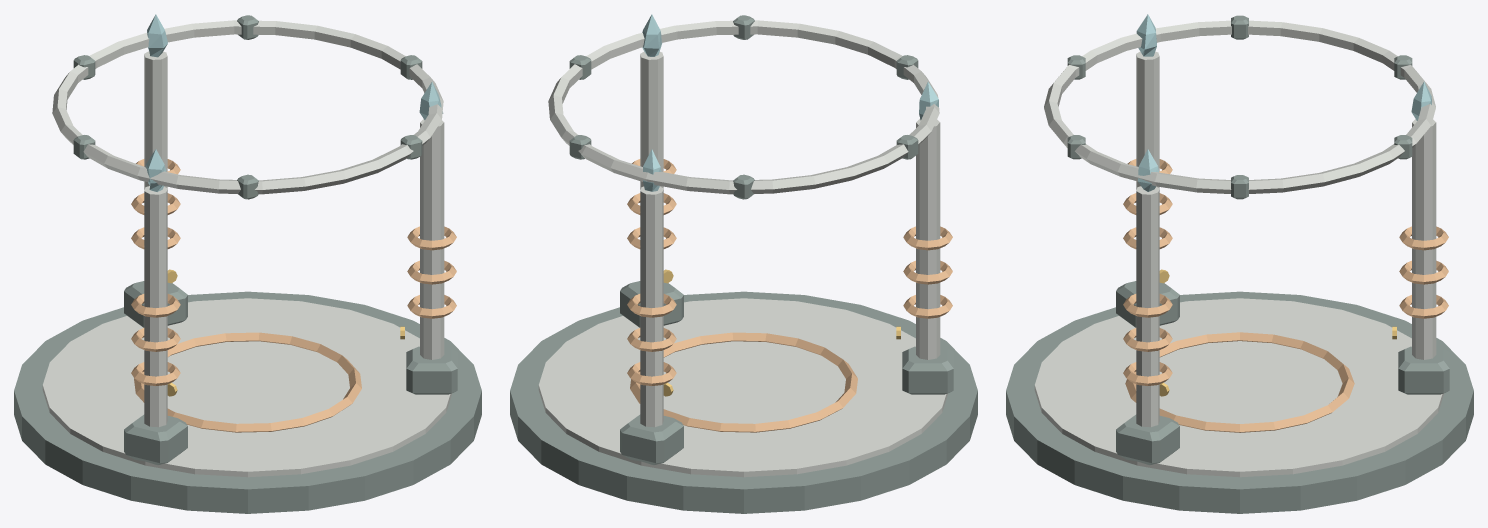
Rendered from lab_rift_emitter.glb.
3 views of the same model, side by side, from view 1: azimuth 30°, elevation 25°; view 2: azimuth 150°, elevation 25°; view 3: azimuth 270°, elevation 25° (orthographic).
Visible parts, largest first — view 1: lab_rift_emitter, Ring, Pylon_1, Pylon_2, Pylon_0; view 2: lab_rift_emitter, Ring, Pylon_0, Pylon_1, Pylon_2; view 3: lab_rift_emitter, Ring, Pylon_2, Pylon_0, Pylon_1.
Boxes of the visible parts, left/top/right/bottom form: lab_rift_emitter: left=14, top=291, right=481, bottom=513; Ring: left=52, top=15, right=443, bottom=199; Pylon_1: left=124, top=149, right=187, bottom=464; Pylon_2: left=400, top=81, right=457, bottom=394; Pylon_0: left=124, top=14, right=187, bottom=327; lab_rift_emitter: left=510, top=291, right=977, bottom=513; Ring: left=548, top=15, right=939, bottom=199; Pylon_0: left=620, top=149, right=683, bottom=464; Pylon_1: left=896, top=81, right=953, bottom=394; Pylon_2: left=620, top=14, right=683, bottom=327; lab_rift_emitter: left=1006, top=291, right=1473, bottom=513; Ring: left=1044, top=15, right=1435, bottom=199; Pylon_2: left=1116, top=149, right=1179, bottom=464; Pylon_0: left=1392, top=81, right=1449, bottom=394; Pylon_1: left=1116, top=14, right=1179, bottom=327.
Size of the model in its own units: 3.1 by 2.44 by 3.1.
